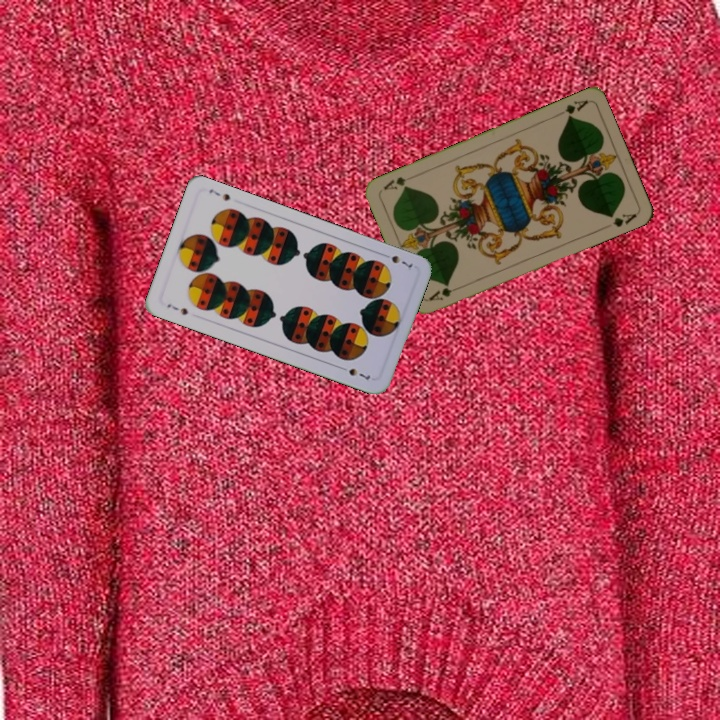GA: (552, 96, 590, 121), (425, 282, 464, 303)
S7: (378, 249, 416, 270), (163, 300, 190, 318)
